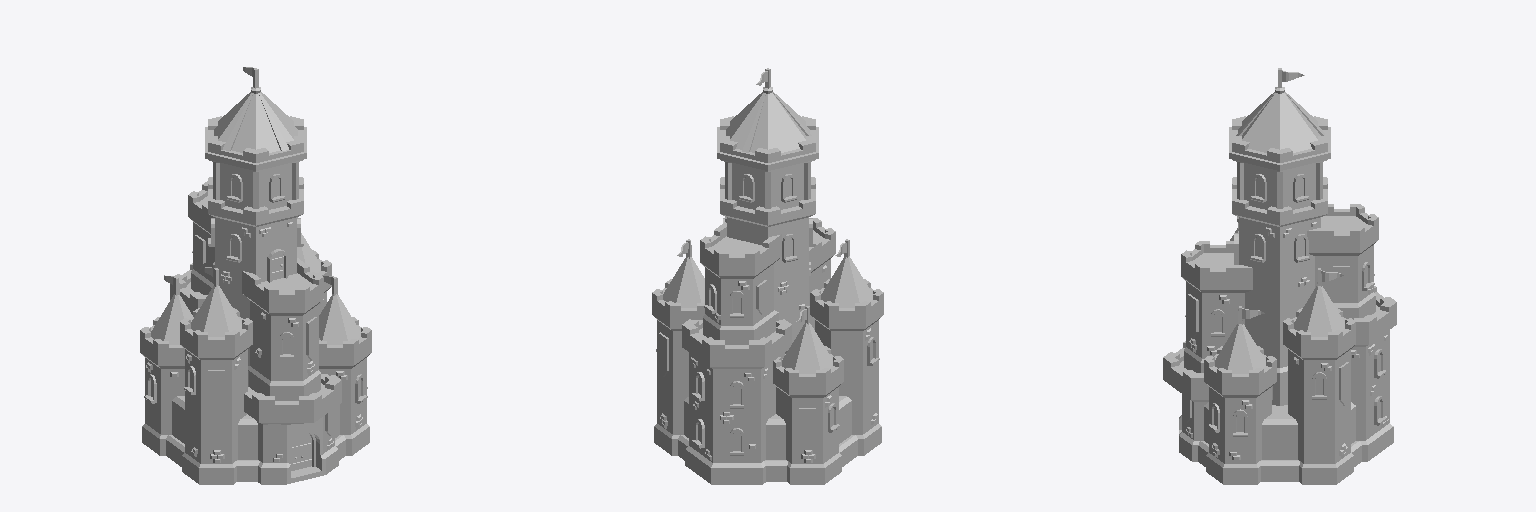
Rendered from building_castle_red.obj.
The picture shows the model from 3 angles: view 1: azimuth 30°, elevation 25°; view 2: azimuth 150°, elevation 25°; view 3: azimuth 270°, elevation 25°; orthographic projection.
Visible parts, largest first — view 1: building_castle_red; view 2: building_castle_red; view 3: building_castle_red.
Boxes of the visible parts, x1,y1,x2,y2 form: building_castle_red: [140, 67, 371, 484]; building_castle_red: [652, 68, 883, 484]; building_castle_red: [1163, 68, 1396, 484].
Bounding box in the file's own units: 1.98 × 3.98 × 2.26.